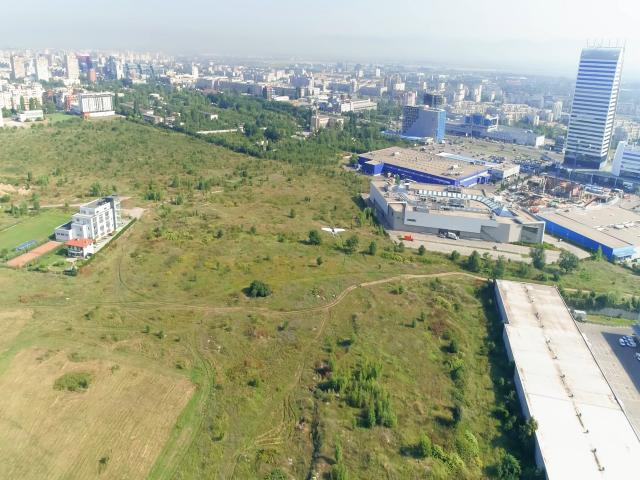plane: (322, 225, 346, 236)
